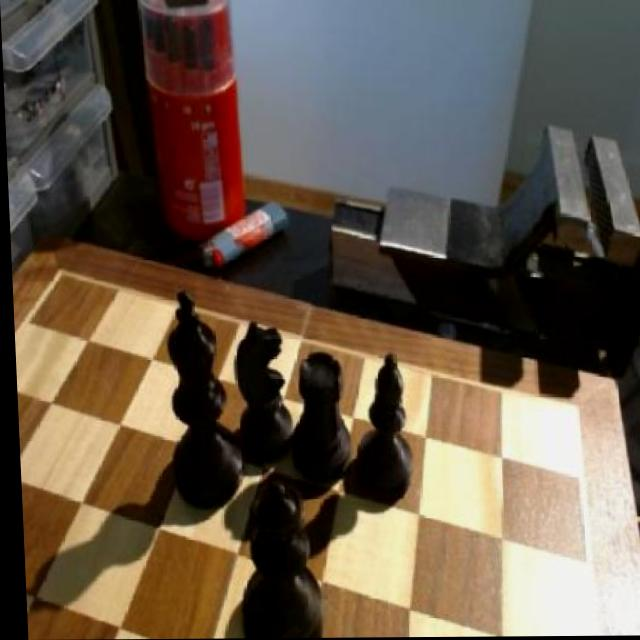bishop: (346, 349, 413, 508)
black-bishop: (158, 288, 241, 505), (226, 473, 325, 639)
black-king: (222, 318, 291, 466)
black-queen: (281, 341, 350, 486)
